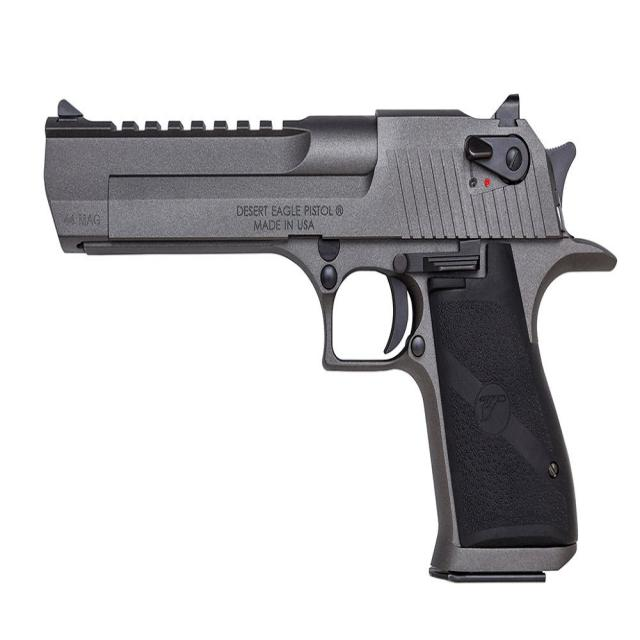HandGun: (43, 94, 619, 585)
